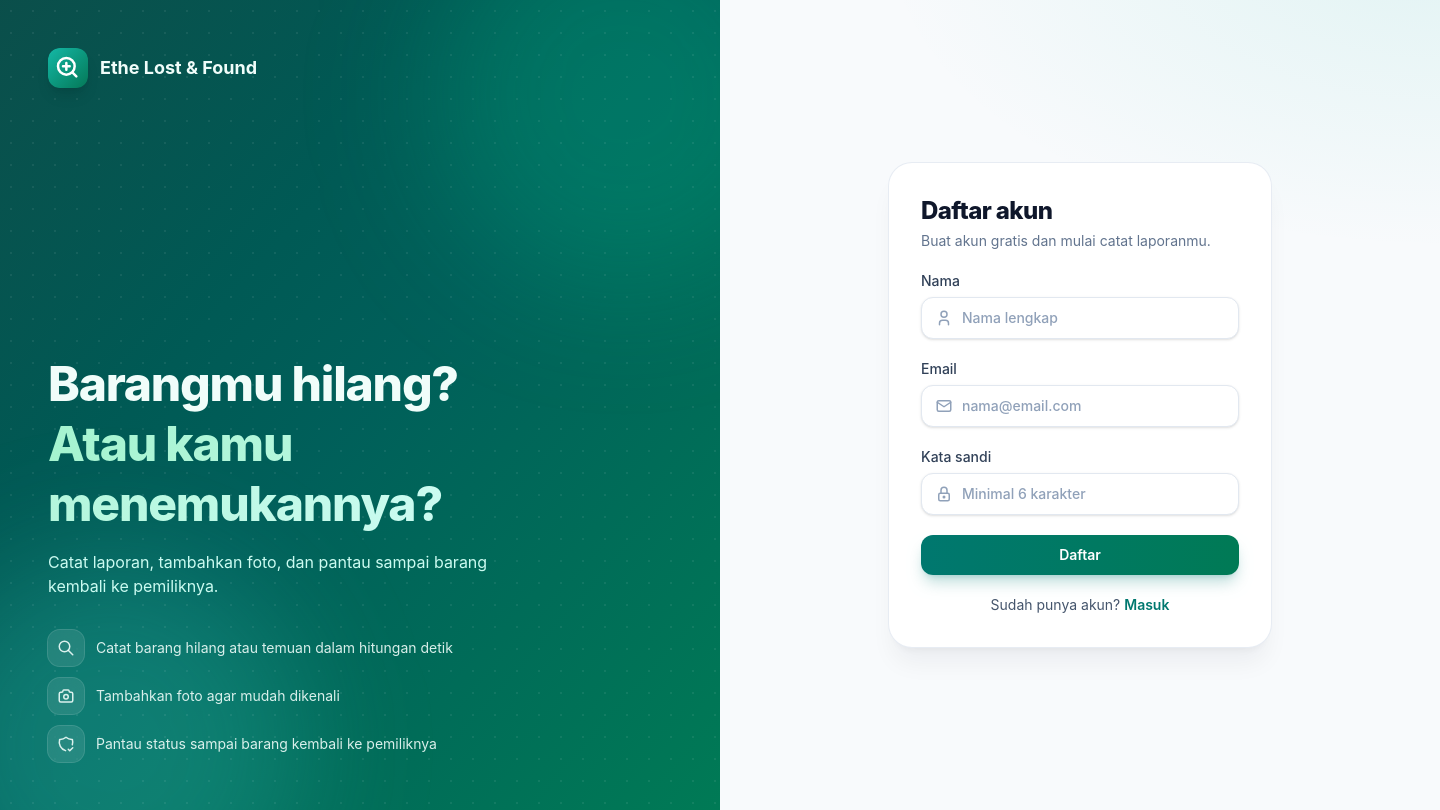
Login & Register pages › registers and goes to login
The width and height of the screenshot is (1440, 810).
Type "Budi" into the field with id "register-name-input".
click(1080, 318); type("Budi")  # box [921,297,1239,339]
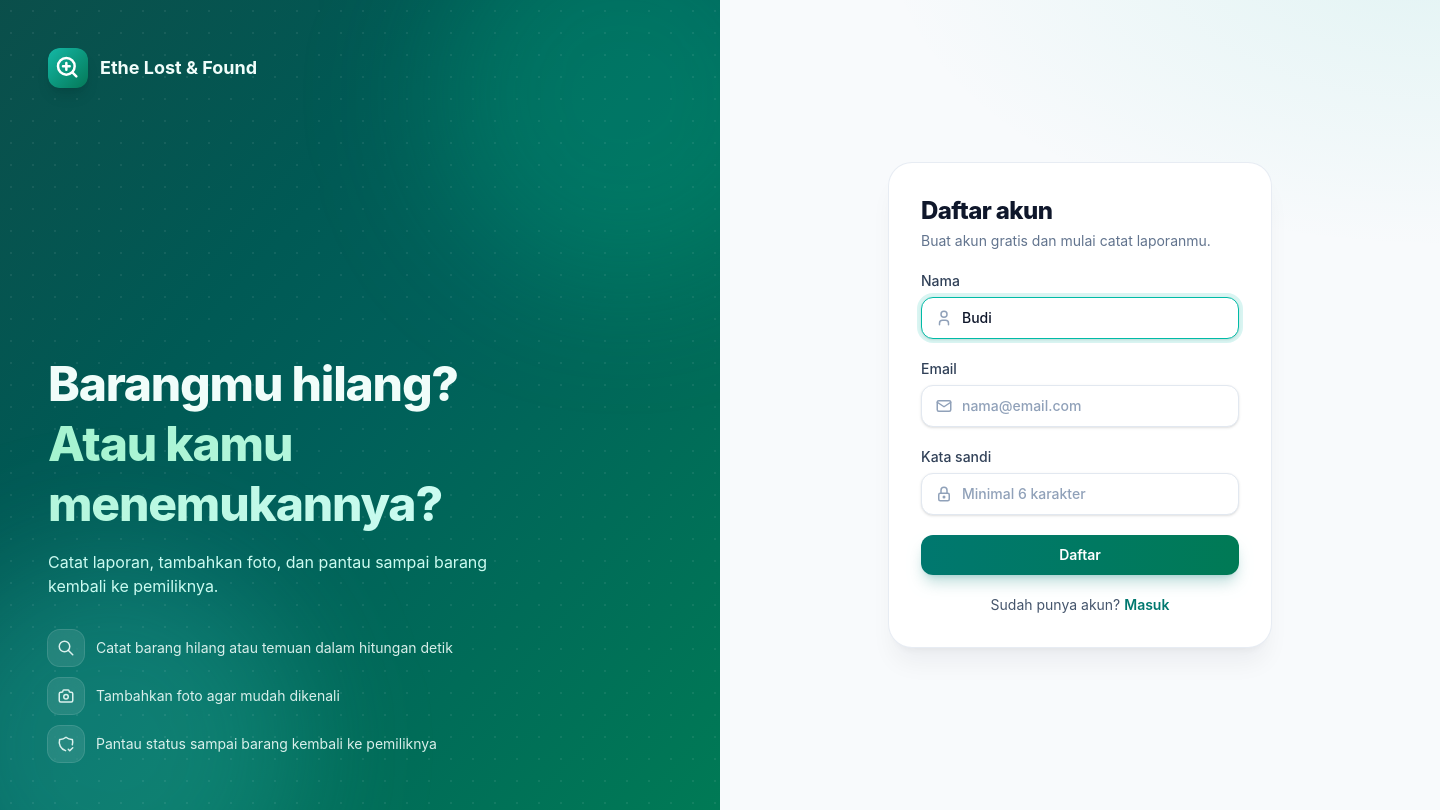
Type "b@x.com" into the field with id "register-email-input".
click(1080, 406); type("b@x.com")  # box [921,385,1239,427]
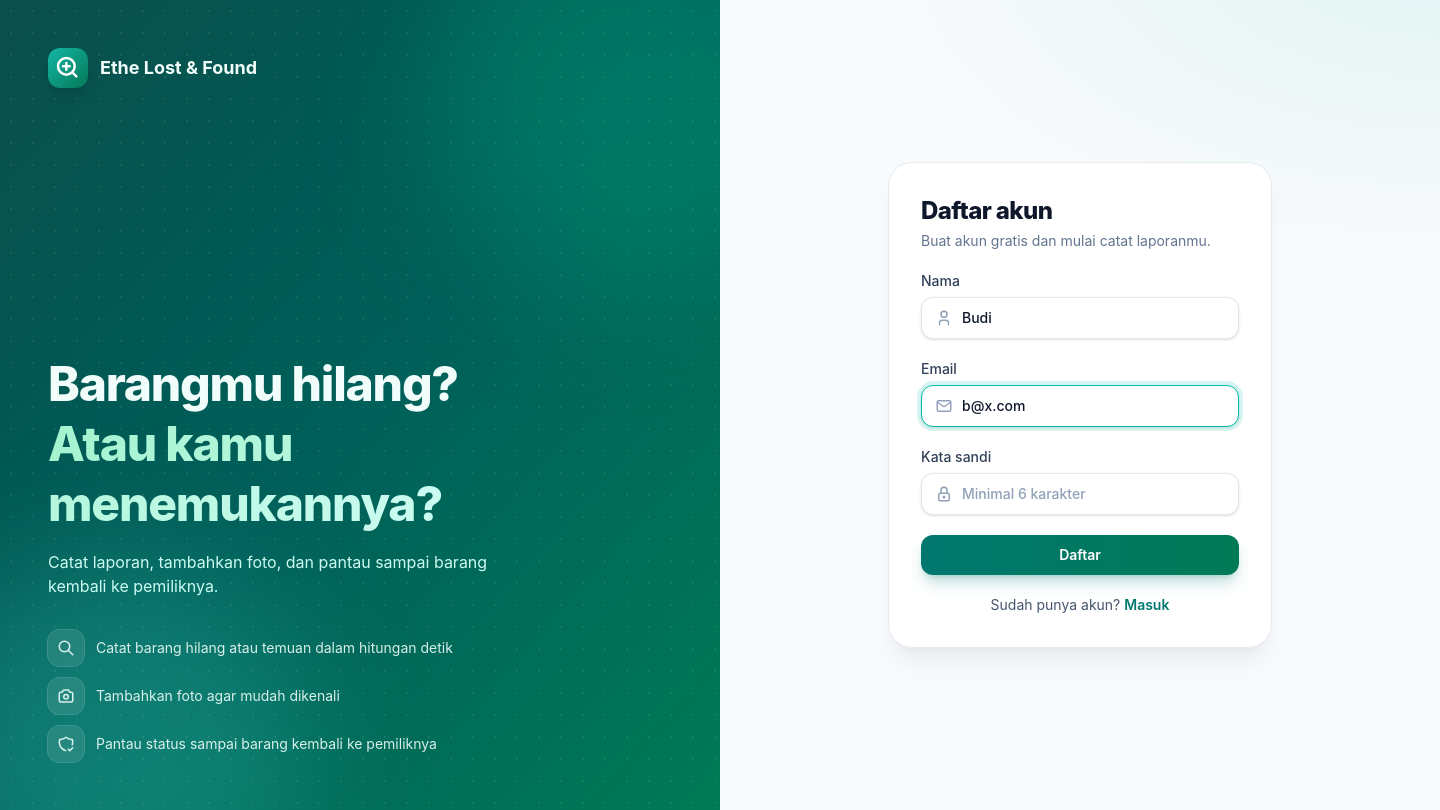
Type "secret1" into the password field with id "register-password-input".
click(1080, 494); type("secret1")  # box [921,473,1239,515]
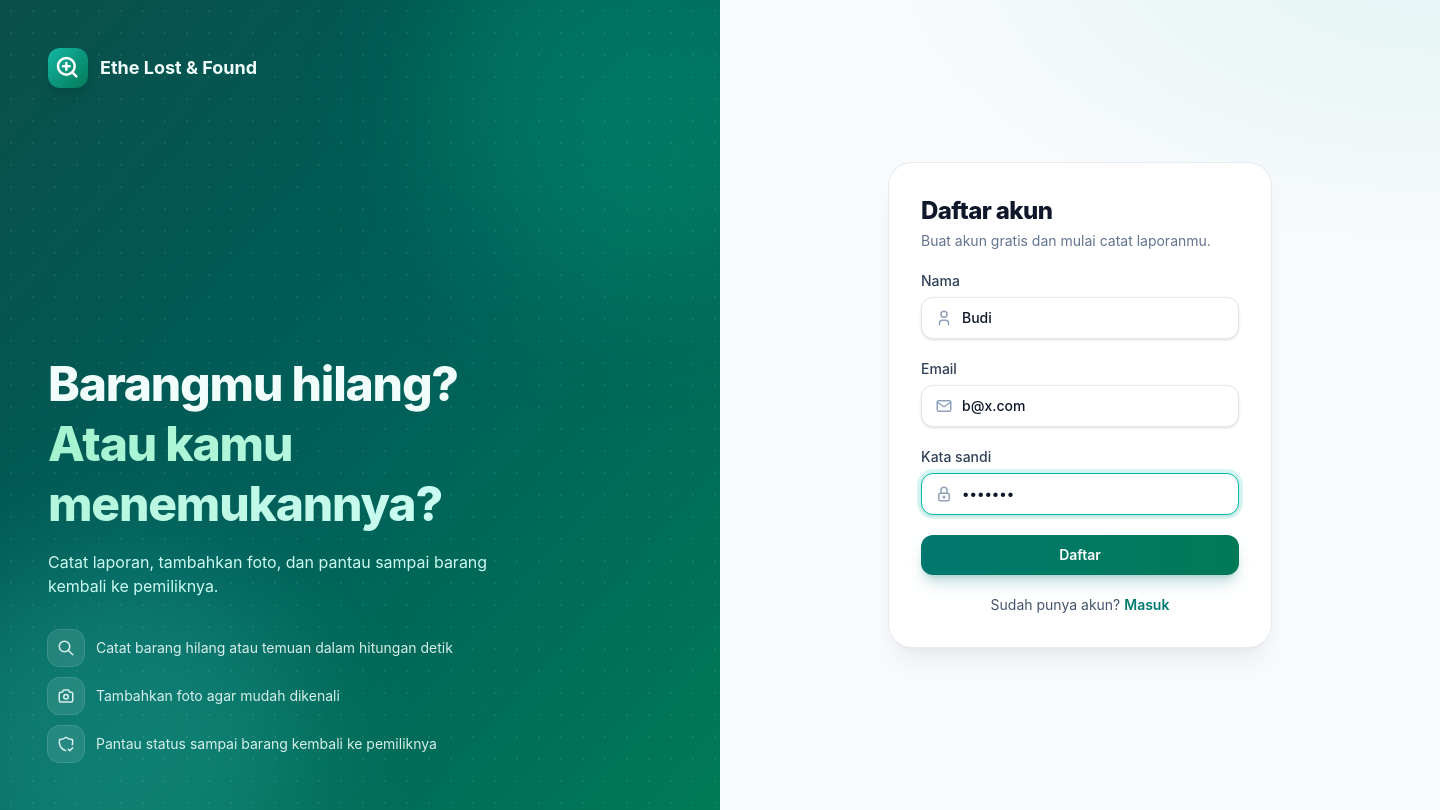
Click the button "Daftar".
click(1080, 555)  # box [921,535,1239,575]
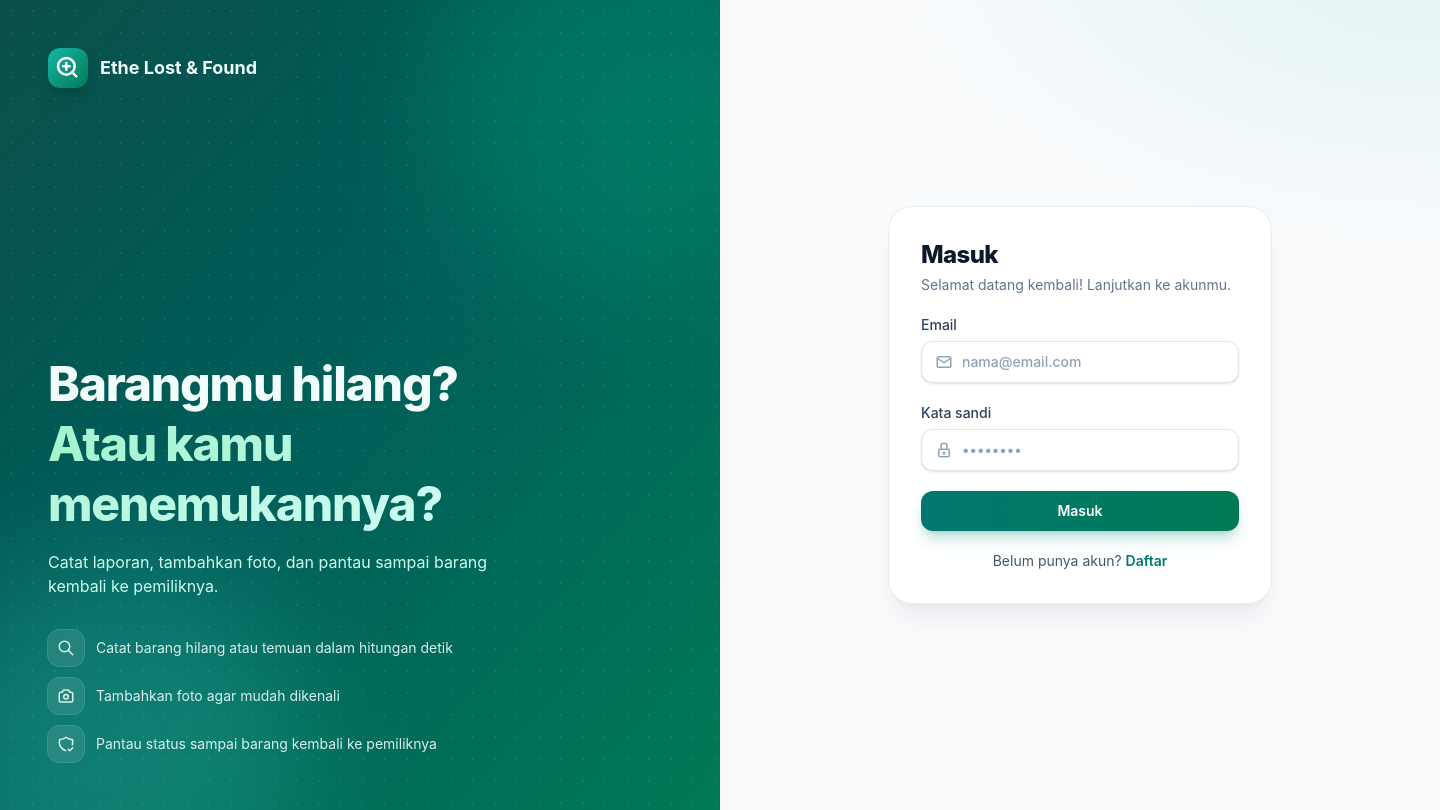
Now the heading "Masuk" is shown, box [921,240,998,269]
